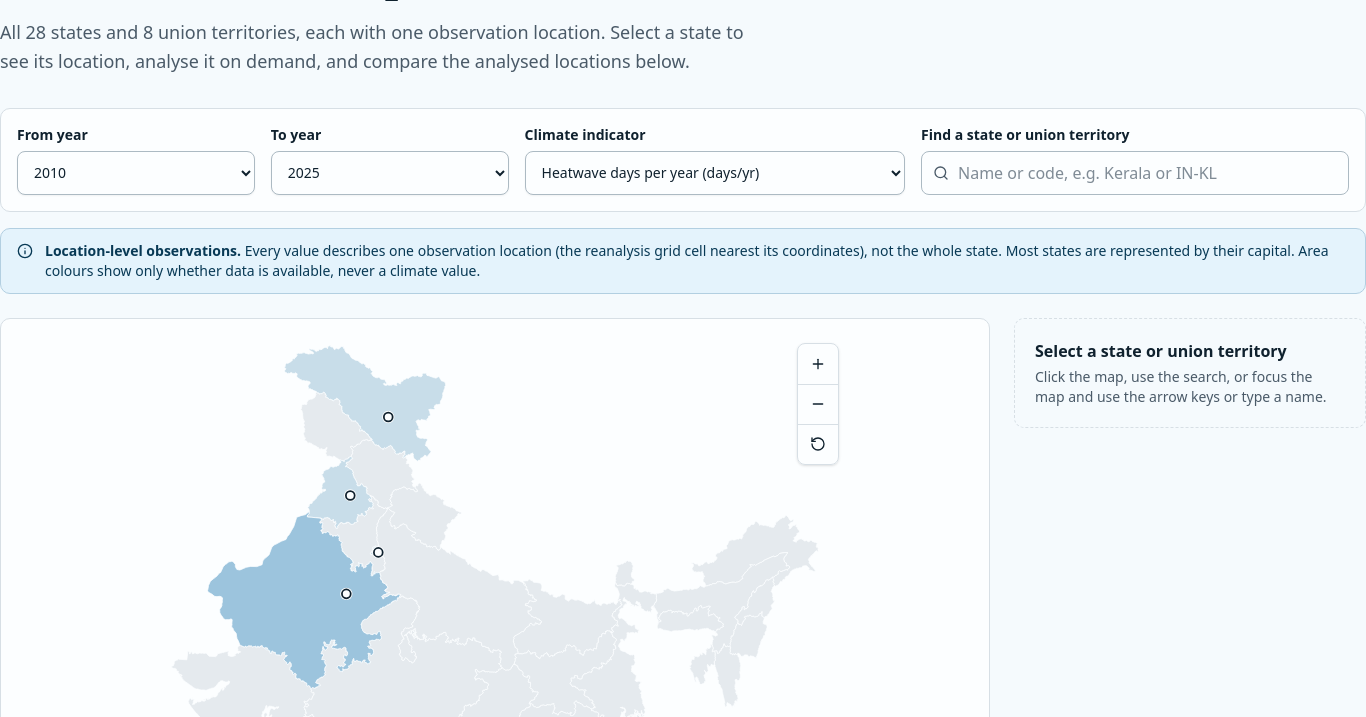
India Climate Explorer › selects a state from the search and labels its location as a capital-city point
This screenshot has width=1366, height=717.
In the dropdown labelled "Find a state or union territory": (1135, 172) [921, 150, 1349, 194], type "rajas"
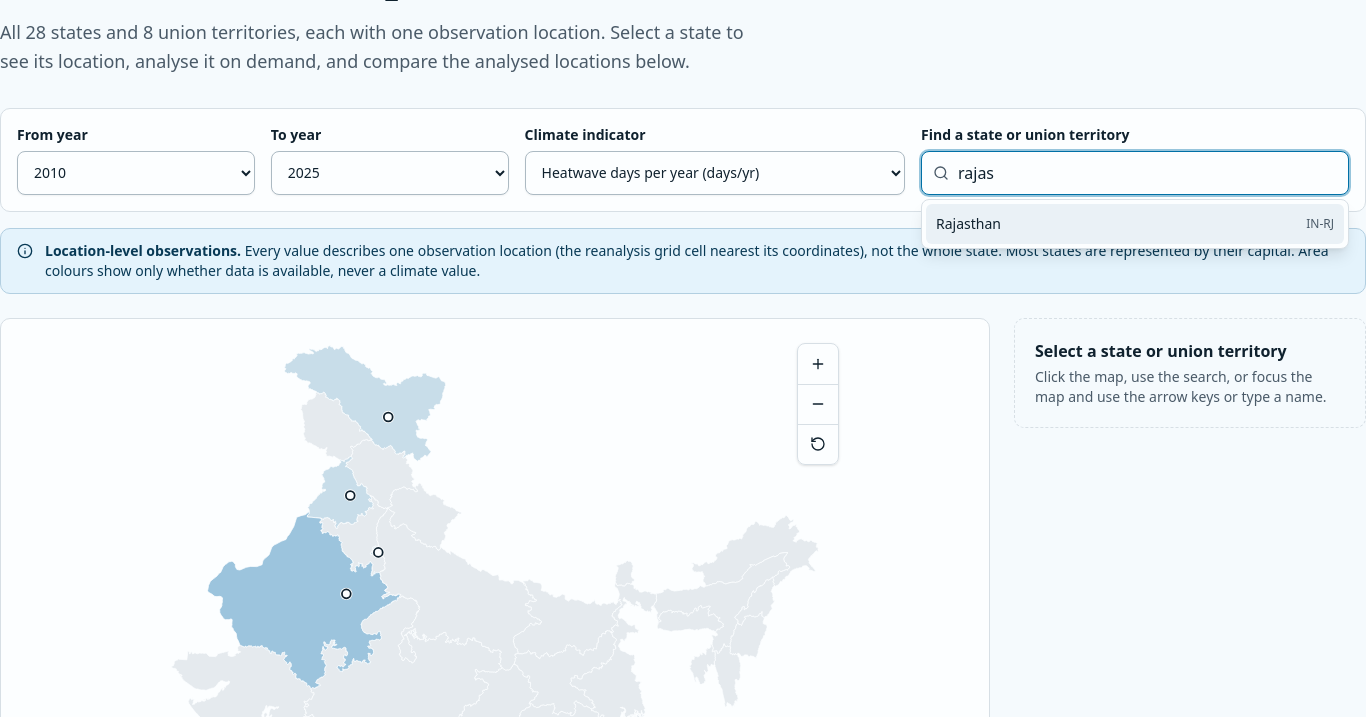
Click the text "Rajasthan": click(968, 224) [936, 214, 1001, 234]
(page scrolled)
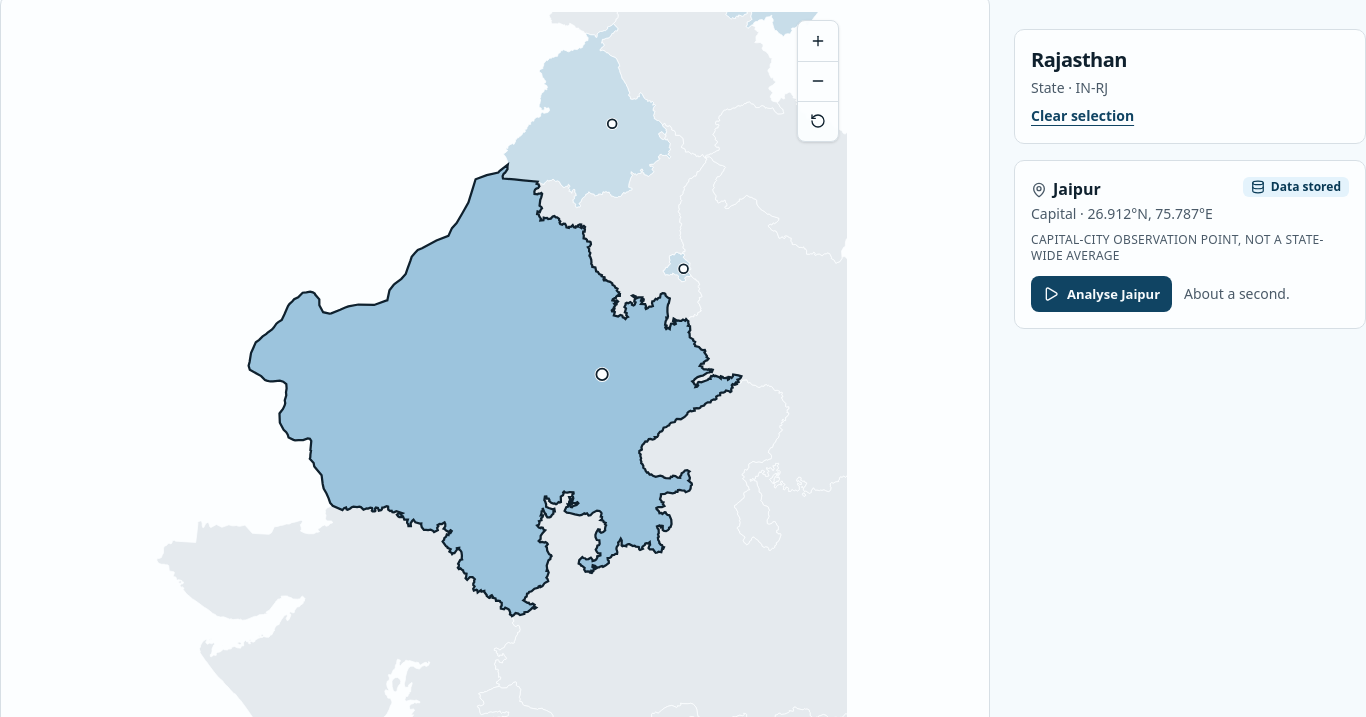
Check: the heading "Rajasthan" is shown, box [1031, 46, 1127, 73]
Check: the text "State · IN-RJ" is shown, box [1031, 78, 1108, 97]
Check: the text "Capital-city observation point, not a state-wide average" is shown, box [1031, 233, 1349, 265]
